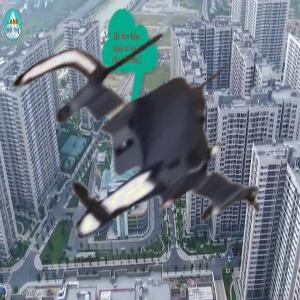drone: (1, 12, 272, 283)
